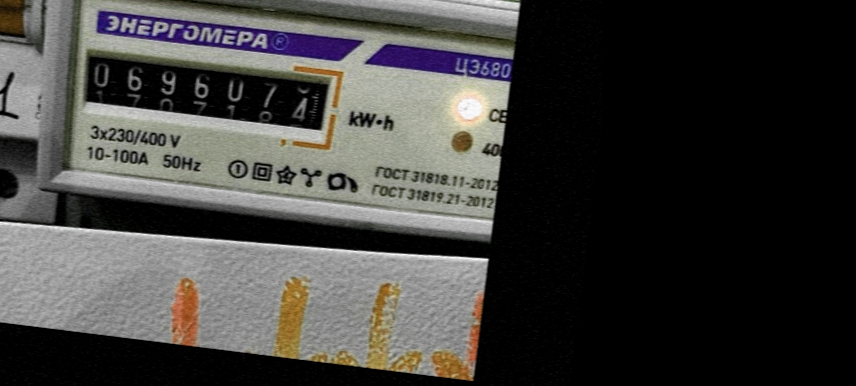0: (89, 58, 114, 88), (225, 72, 247, 103), (125, 63, 145, 90)
4: (289, 93, 310, 123)
6: (191, 68, 212, 100)
7: (258, 77, 280, 108)
9: (158, 66, 179, 96)
screen: (64, 33, 347, 150)
